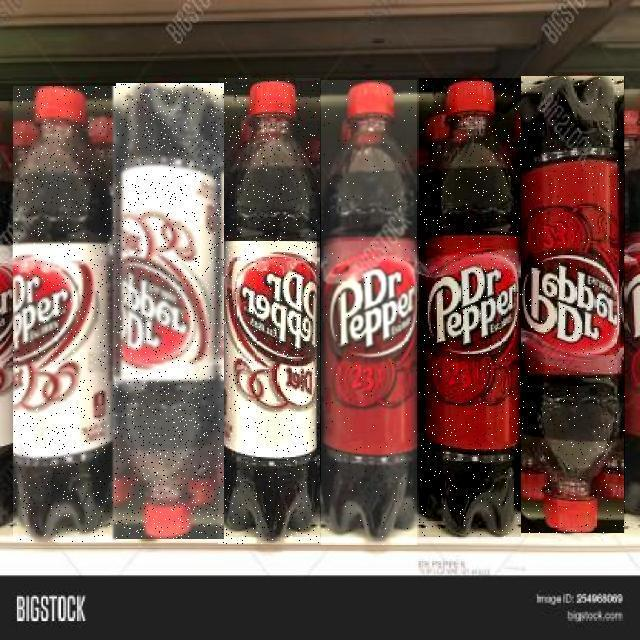Drinks: (116, 83, 224, 539), (522, 76, 628, 533), (218, 78, 320, 544), (14, 86, 118, 542), (419, 78, 521, 537), (321, 80, 417, 545)
